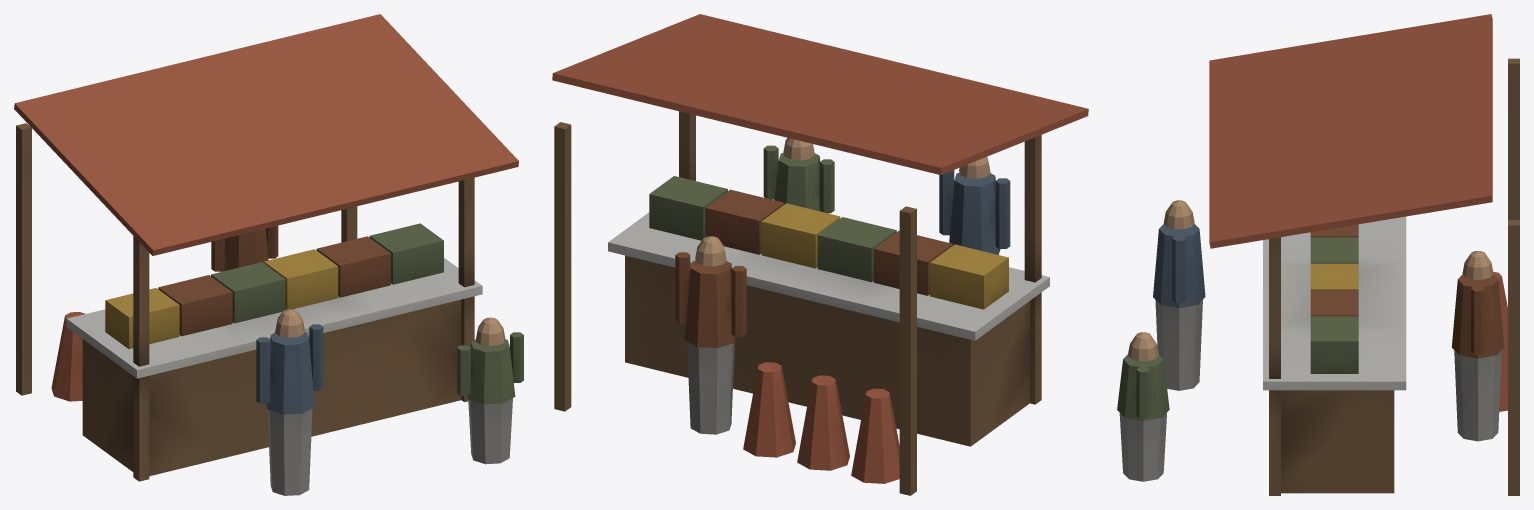
Rendered from stall.glb.
The picture shows the model from 3 angles, left to right: view 1: azimuth 30°, elevation 25°; view 2: azimuth 150°, elevation 25°; view 3: azimuth 270°, elevation 25°; orthographic projection. The views are drawn at different scales.
Visible parts, largest first — view 1: base; view 2: base; view 3: base.
Part boxes in pixels (box(x1,y1,x2,y2)): base: box(14, 14, 523, 495); base: box(552, 14, 1088, 495); base: box(1117, 14, 1519, 495).
Bounding box in the file's own units: 3.6 × 2.84 × 3.37.
